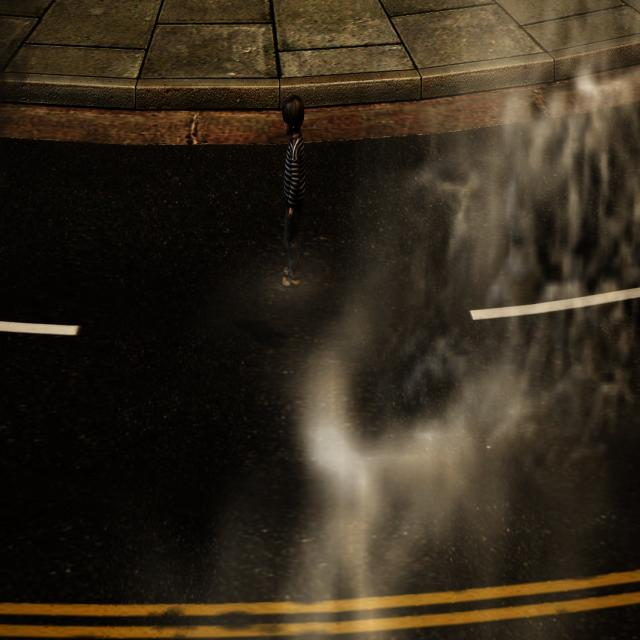Human: (276, 90, 306, 294)
